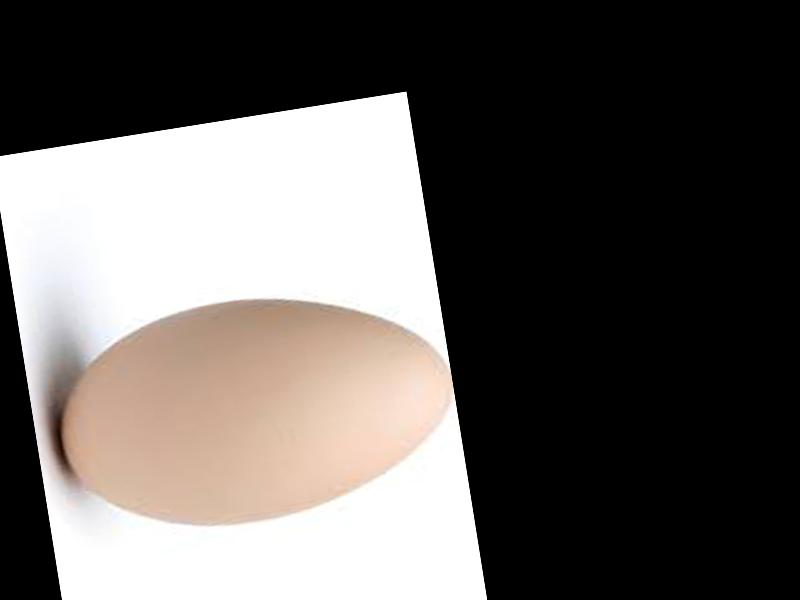Eggs: (39, 269, 466, 550)
